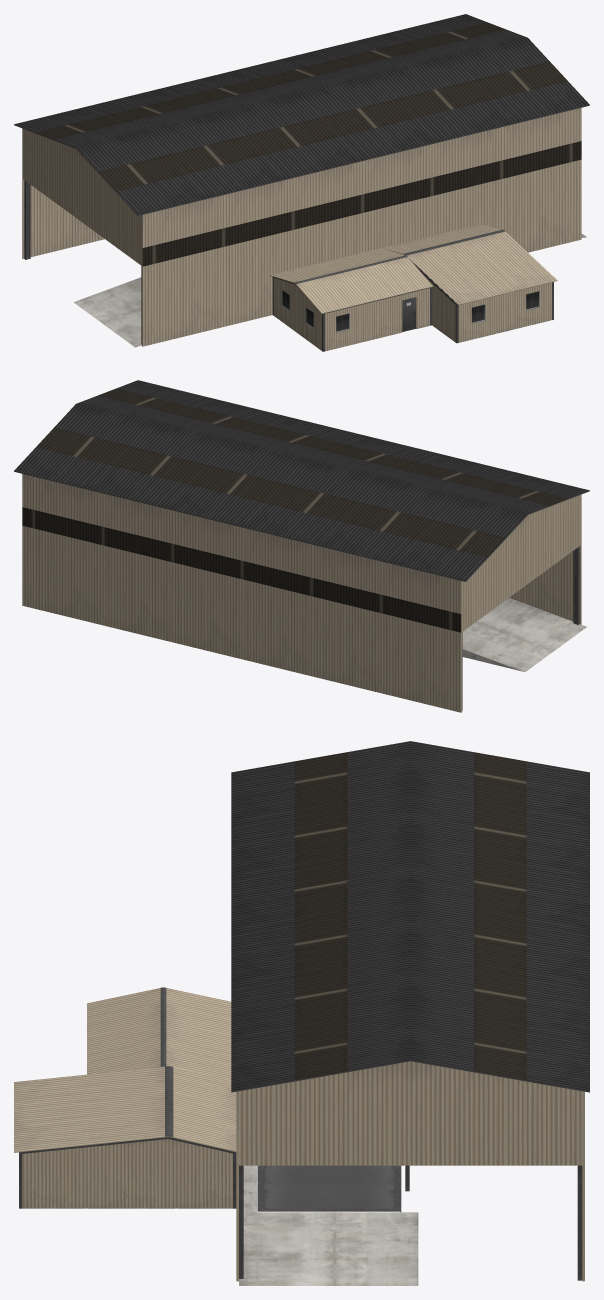
File: plant-building36-2.glb
3 views of the same model, one above another, from view 1: azimuth 30°, elevation 25°; view 2: azimuth 150°, elevation 25°; view 3: azimuth 270°, elevation 25° (orthographic). The views are drawn at different scales.
Parts seen in each view (by area): view 1: Object8936499; view 2: Object8936499; view 3: Object8936499.
Part boxes in pixels (x1,y1,x2,y2): Object8936499: (14,14,589,351); Object8936499: (14,380,589,712); Object8936499: (14,741,589,1285).
Size of the model in its own units: 28.93 by 9.55 by 22.08.
1 material, 1 textured.
